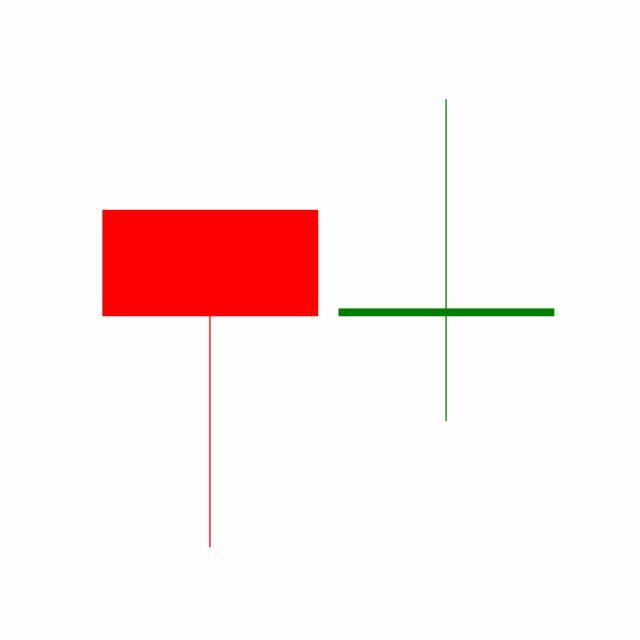Spinning Top: (328, 96, 566, 425)
